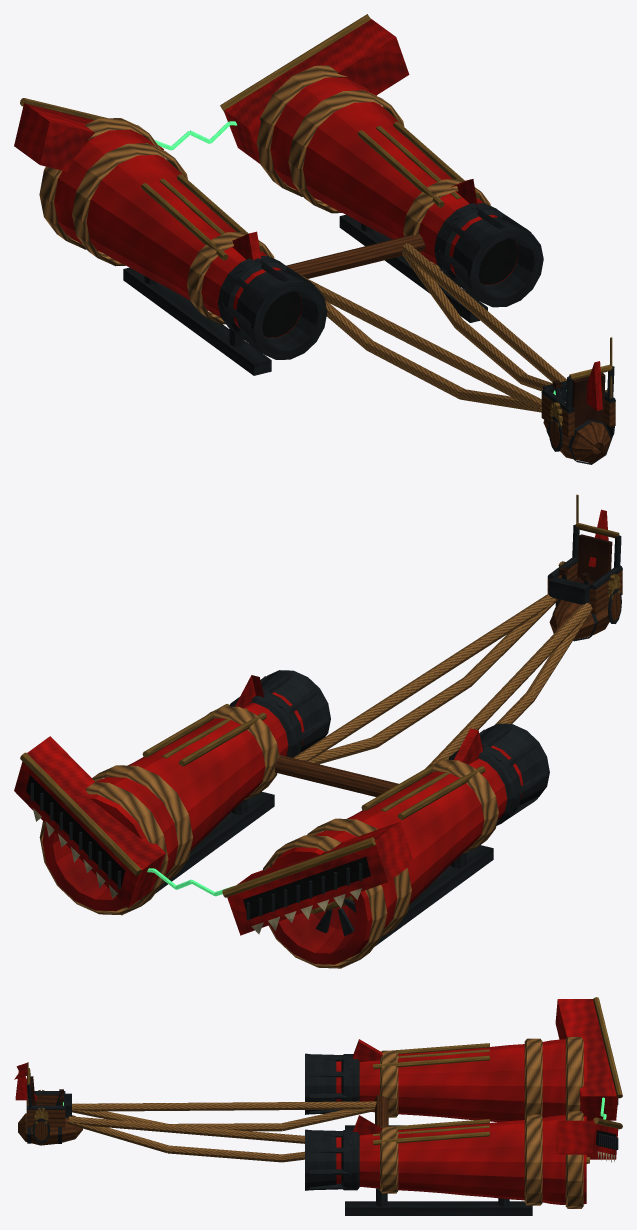
File: dug-racer.glb
3 renders of one model, top to bottom at view 1: azimuth 30°, elevation 25°; view 2: azimuth 150°, elevation 25°; view 3: azimuth 270°, elevation 25°, orthographic. The views are drawn at different scales.
Parts seen in each view (by area): view 1: Faceted engine casing.001, Faceted engine casing, Angular brow armor.001, Hollow exhaust.001, Hollow exhaust, Angular brow armor, Landing skid, TowLineL, Riveted hoop.006, Riveted hoop.002, TowLineR, Riveted hoop.007 (+22 smaller); view 2: Faceted engine casing.001, Faceted engine casing, Angular brow armor.001, Angular brow armor, TowLineR, TowLineL, Riveted hoop.007, Riveted hoop.006, Dark slanted intake, Riveted hoop.003, Rear cross brace, Hollow exhaust (+21 smaller); view 3: Faceted engine casing.001, Faceted engine casing, Angular brow armor, Landing skid.001, TowLineL, TowLineR, Angular brow armor.001, Riveted hoop.006, Riveted hoop.002, Hollow exhaust.001, Riveted hoop.003, Riveted hoop.005 (+20 smaller).
Boxes of the visible parts, x1,y1,x2,y2 form: Faceted engine casing.001: (270,77,518,284); Faceted engine casing: (54,129,302,337); Angular brow armor.001: (224,18,409,163); Hollow exhaust.001: (452,217,543,307); Hollow exhaust: (236,270,327,359); Angular brow armor: (14,103,163,171); Landing skid: (123,267,271,375); TowLineL: (301,275,541,408); Riveted hoop.006: (288,90,404,213); Riveted hoop.002: (72,143,187,266); TowLineR: (402,243,566,382); Riveted hoop.007: (256,65,376,196); Faceted engine casing.001: (42,690,304,911); Faceted engine casing: (269,744,523,964); Angular brow armor.001: (14,736,165,907); Angular brow armor: (227,821,413,935); TowLineR: (293,594,555,761); TowLineL: (426,602,592,767); Riveted hoop.007: (39,782,168,915); Riveted hoop.006: (92,765,192,882); Dark slanted intake: (243,857,370,918); Riveted hoop.003: (262,835,387,968); Rear cross brace: (274,754,398,796); Hollow exhaust: (480,723,549,805); Faceted engine casing.001: (336,1115,586,1204); Faceted engine casing: (336,1039,586,1122); Angular brow armor: (555,999,618,1120); Landing skid.001: (345,1201,532,1215); TowLineL: (72,1101,376,1111); TowLineR: (68,1116,304,1143); Angular brow armor.001: (555,1120,618,1159); Riveted hoop.006: (524,1114,542,1205); Riveted hoop.002: (524,1038,542,1116); Hollow exhaust.001: (305,1129,336,1190); Riveted hoop.003: (565,1037,583,1113); Riveted hoop.005: (380,1126,398,1193).
Size of the model in its own units: 5.4 by 2.31 by 10.71.
9 materials, 9 textured.
